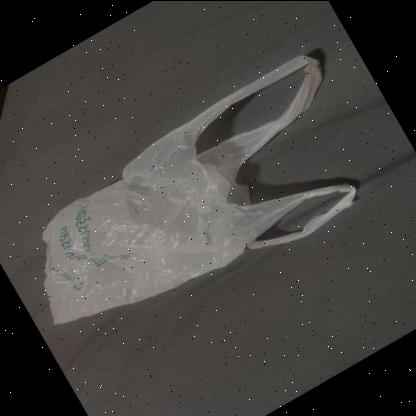Others: (40, 51, 359, 327)
